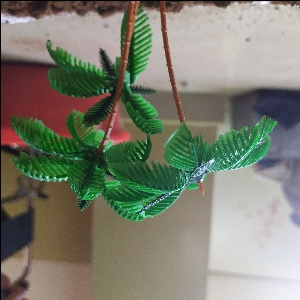plant: (3, 3, 288, 219)
